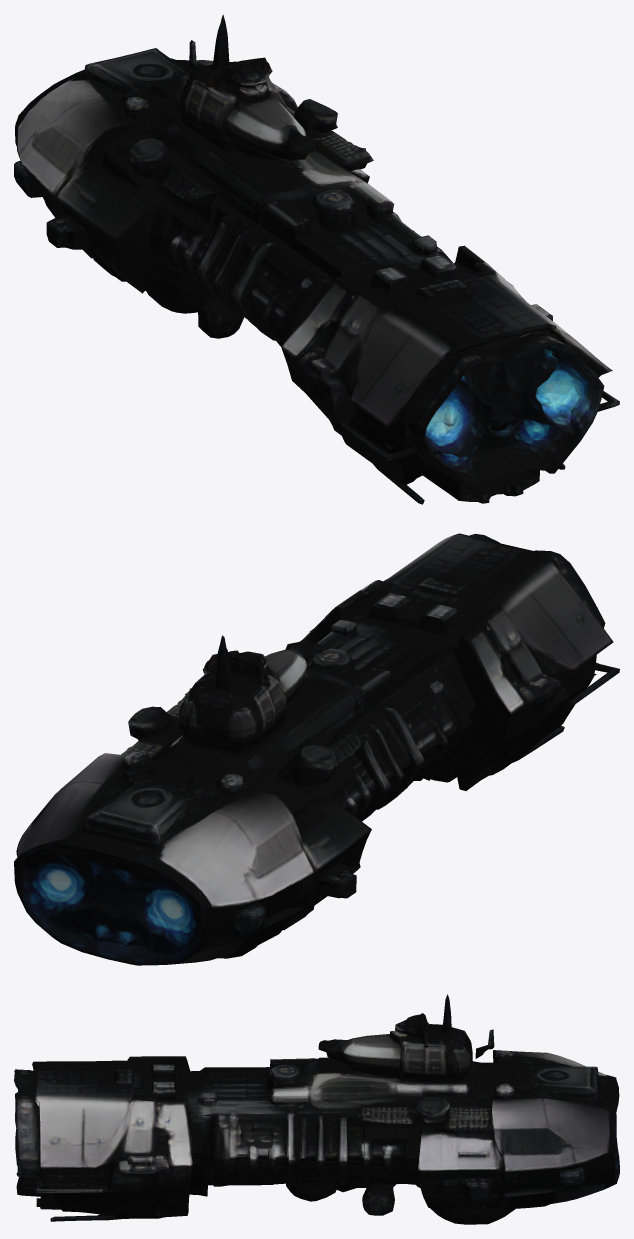
3 views of the same model, one above another, from view 1: azimuth 30°, elevation 25°; view 2: azimuth 150°, elevation 25°; view 3: azimuth 270°, elevation 25° (orthographic). The views are drawn at different scales.
Parts seen in each view (by area): view 1: world; view 2: world; view 3: world.
Part boxes in pixels (box(x1,y1,x2,y2)): world: box(14, 14, 619, 504); world: box(14, 533, 619, 965); world: box(14, 994, 619, 1224).
Size of the model in its own units: 0.4171 by 0.3892 by 0.9967.
1 material, 1 textured.
